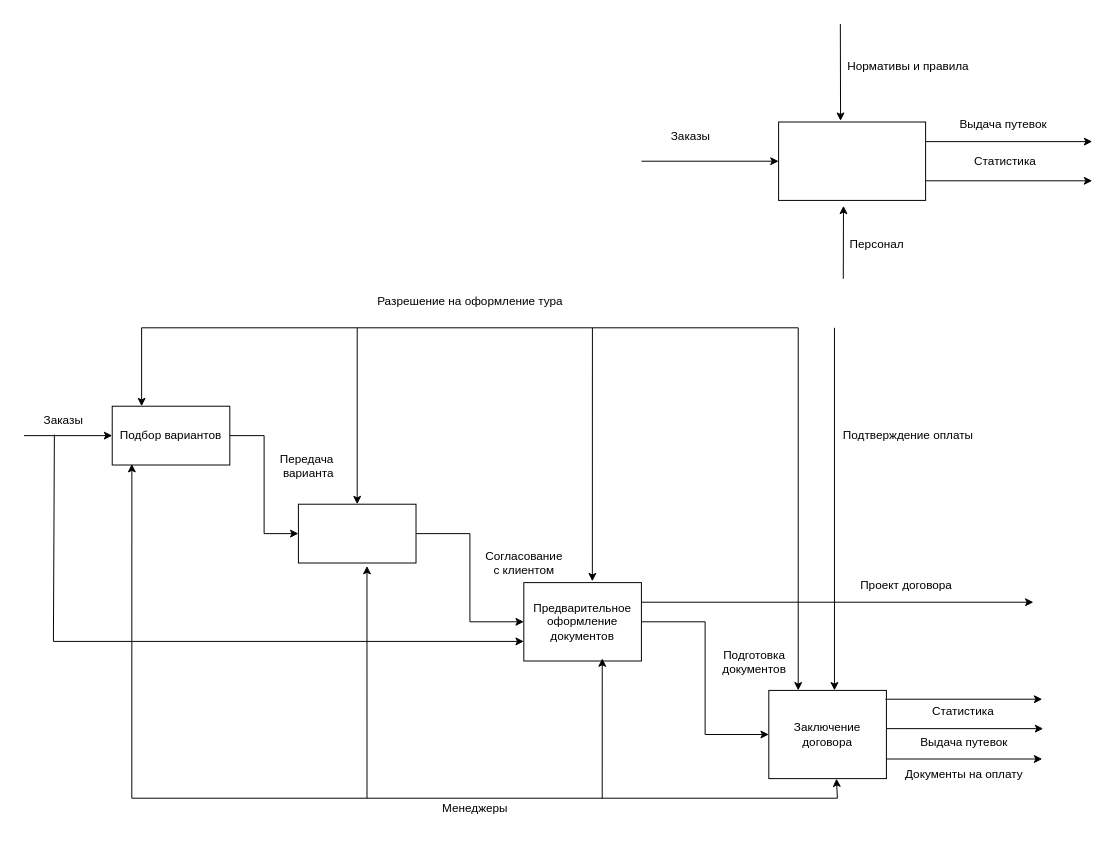
Some shapes in this 1117 by 841 pixel diagram are drawn without their labels. The box of each missing label's shape, as (x1, y1, x2, y2) in pixels:
Оформление путевки: (778, 121, 926, 200)
Расчет стоимости путевки: (297, 503, 416, 563)
